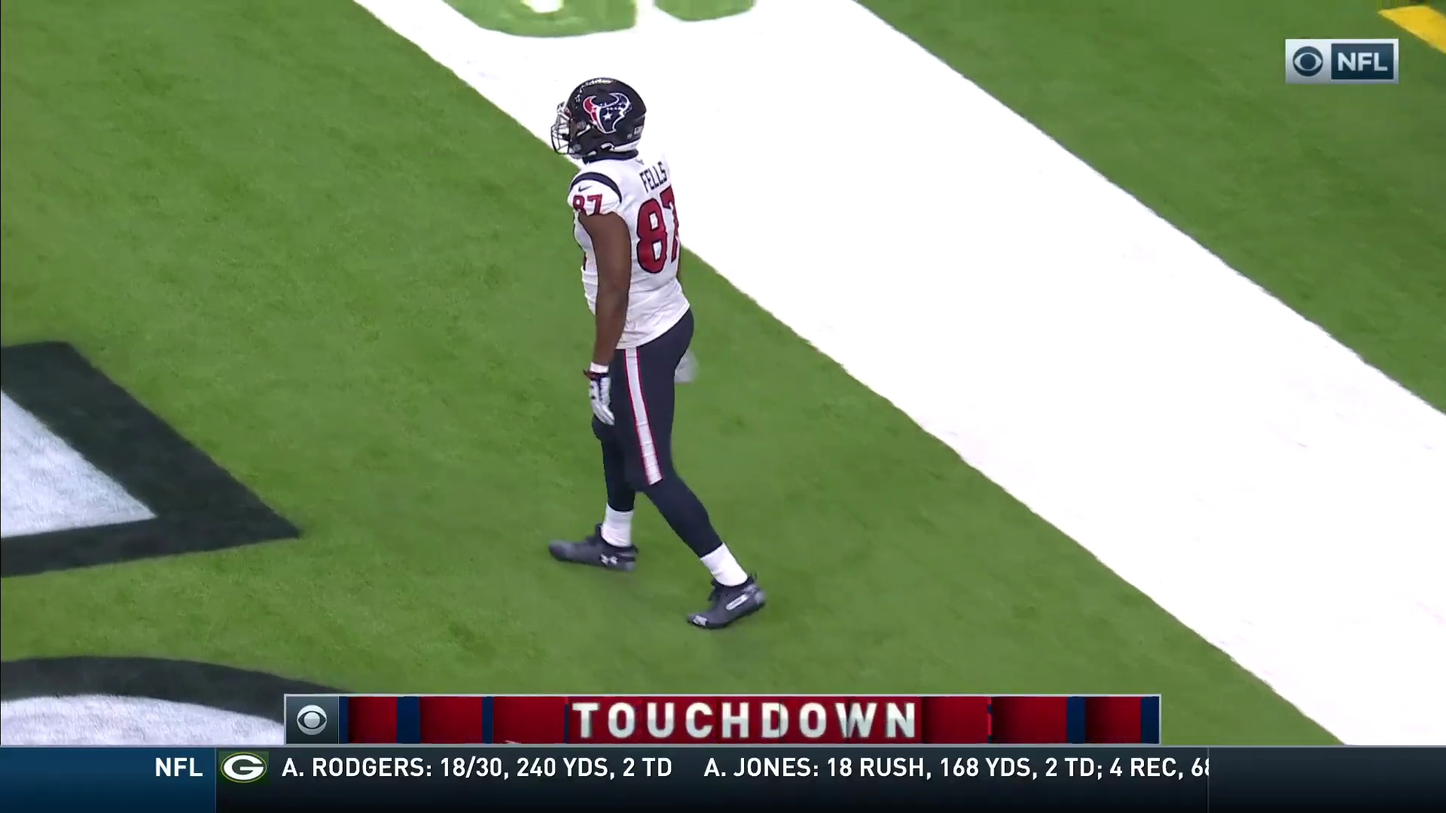Player: (570, 102, 694, 566)
